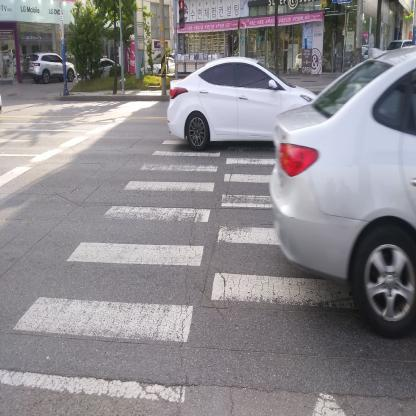Red: (178, 0, 184, 29)
